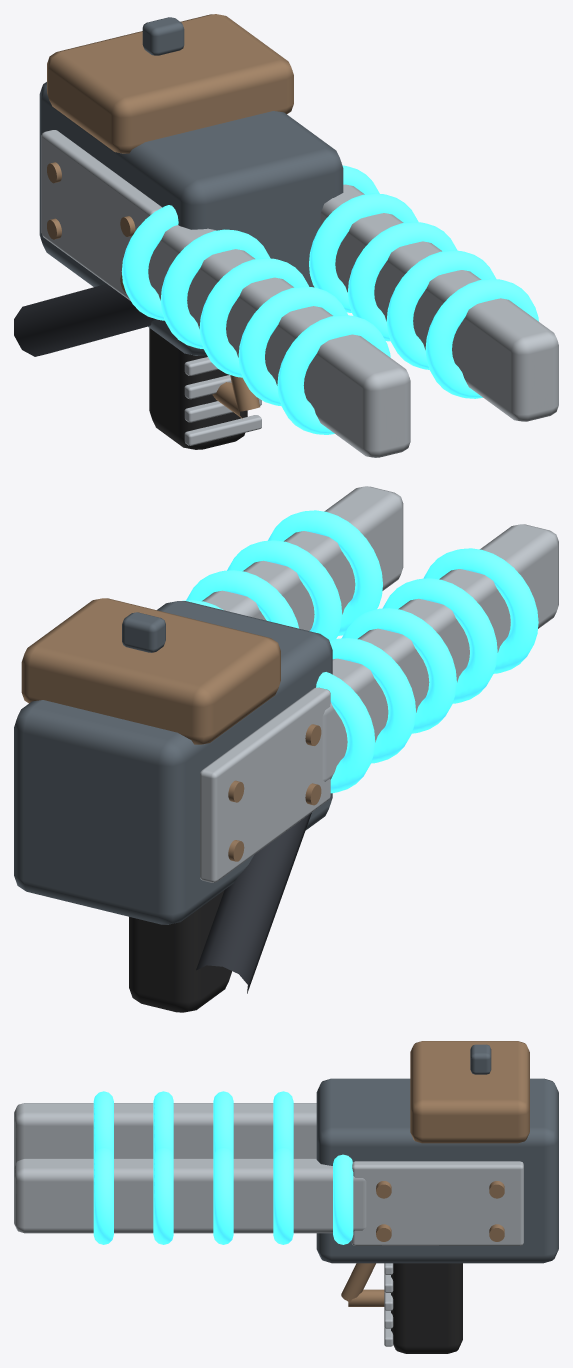
File: arena-shooter-map-kit-lightning-gun-pickup-06839ffd__23141.glb
3 views of the same model, one above another, from view 1: azimuth 30°, elevation 25°; view 2: azimuth 150°, elevation 25°; view 3: azimuth 270°, elevation 25° (orthographic). The views are drawn at different scales.
Parts seen in each view (by area): view 1: lightning-gun-pickup; view 2: lightning-gun-pickup; view 3: lightning-gun-pickup.
Boxes of the visible parts, box(x1,y1,x2,y2) form: lightning-gun-pickup: box(14, 14, 558, 457); lightning-gun-pickup: box(14, 486, 558, 1012); lightning-gun-pickup: box(14, 1041, 558, 1353).
Size of the model in its own units: 0.384 by 0.55 by 0.9105.
